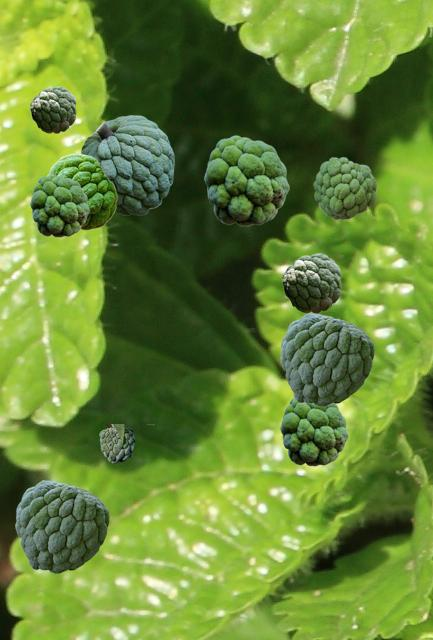atis: (80, 115, 173, 214), (280, 313, 373, 405), (15, 480, 108, 572), (204, 135, 288, 225), (47, 153, 116, 229), (280, 398, 347, 465), (313, 157, 375, 218), (30, 174, 88, 236), (282, 253, 340, 312), (30, 86, 75, 132), (99, 424, 153, 462)
